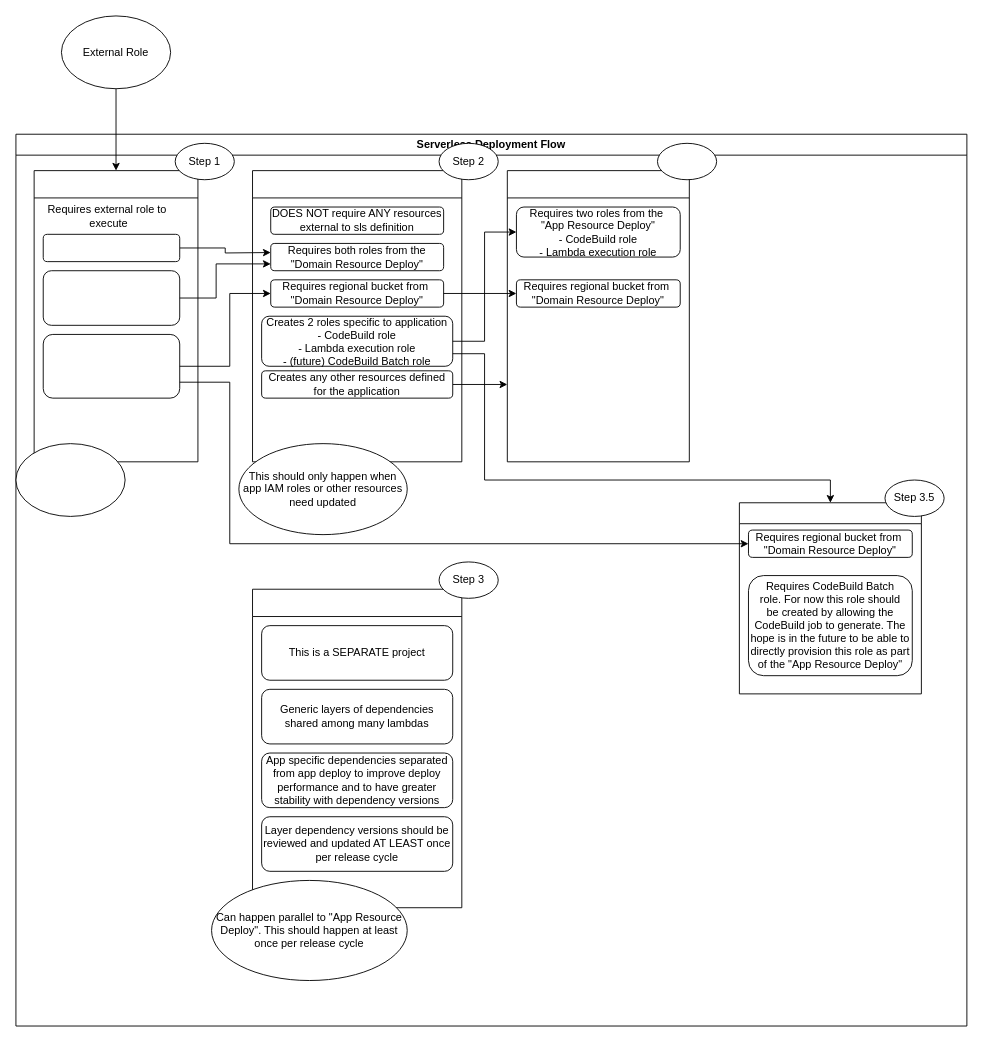
The diagram is 983 pixels wide and 1042 high, and some of its shapes have lost their labels. The box of each missing label's shape, as (x1, y1, x2, y2) in pixels:
App Deploy (App ONLY): (506, 170, 689, 462)
App Resource Deploy (App specific resources): (252, 170, 462, 462)
Creates Admin Role for all sls deploys: (42, 233, 180, 262)
Creates CodeBuild resource role for all sls resource deploys: (42, 270, 180, 325)
Creates regional deployment bucket for all sls deploys in a given region: (42, 334, 180, 398)
Domain Resource Deploy (General sls resources): (33, 170, 198, 462)
Layer Deploy (Shared and App specific layers): (252, 588, 462, 908)
Step 4: (657, 142, 717, 180)
Test App: (738, 502, 921, 694)
This should only be deployed ONCE per region: (15, 443, 125, 516)
